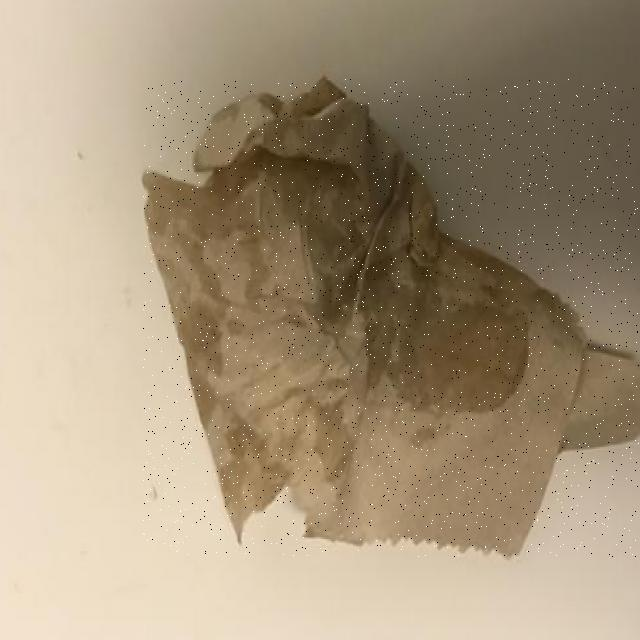paper: (144, 79, 639, 556)
